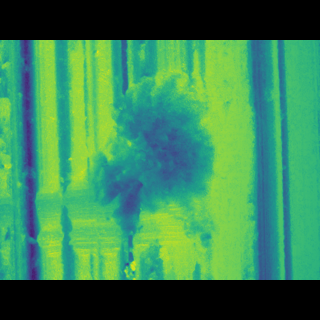Loch: (27, 88, 235, 238)
